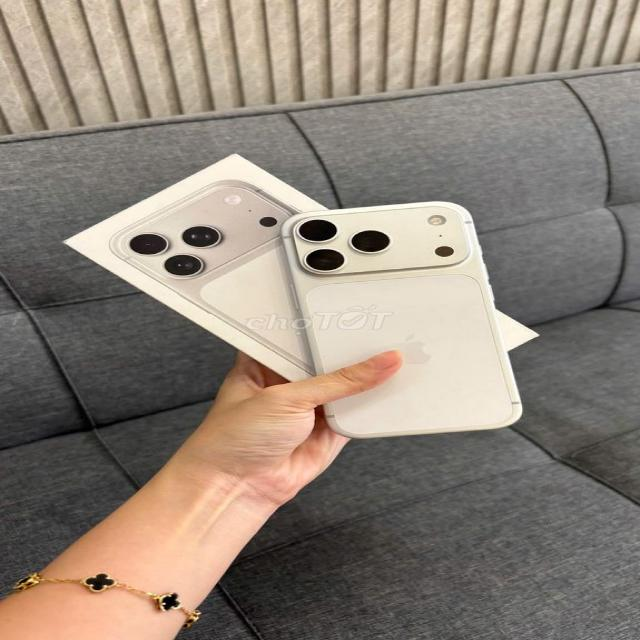gen_17: (282, 213, 552, 437)
